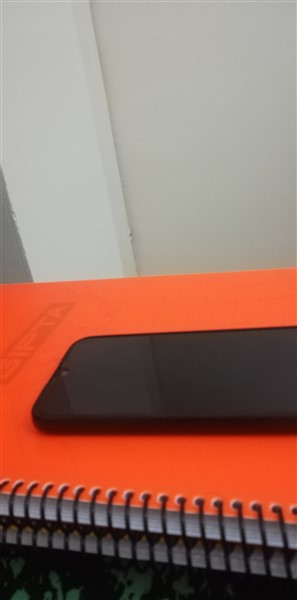telefon: (26, 322, 297, 444)
